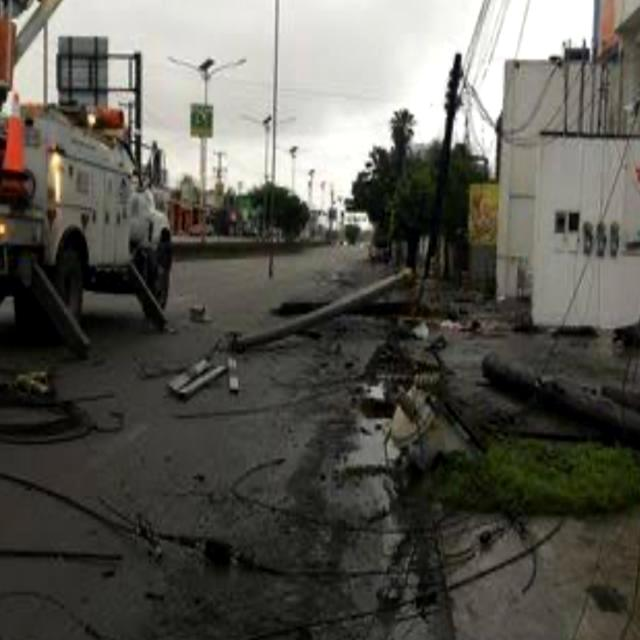Broken Pole: (230, 265, 414, 354), (481, 354, 640, 449), (281, 300, 422, 317)
